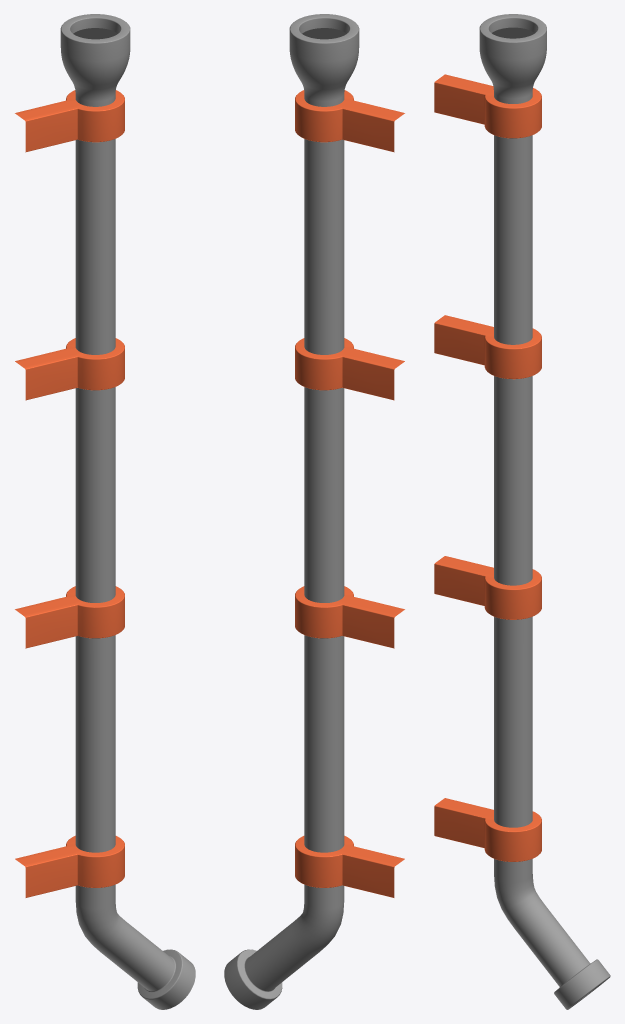
File: City_12_Drain_Pipe_1.glb
The picture shows the model from 3 angles, left to right: view 1: azimuth 30°, elevation 25°; view 2: azimuth 150°, elevation 25°; view 3: azimuth 330°, elevation 25°; orthographic projection. The views are drawn at different scales.
Parts seen in each view (by area): view 1: City_12_Drain_Pipe_1; view 2: City_12_Drain_Pipe_1; view 3: City_12_Drain_Pipe_1.
Part boxes in pixels (x1=…): City_12_Drain_Pipe_1: x1=15, y1=14, x2=195, y2=1009; City_12_Drain_Pipe_1: x1=224, y1=14, x2=404, y2=1009; City_12_Drain_Pipe_1: x1=434, y1=14, x2=610, y2=1009.
Bounding box in the file's own units: 1.25 × 6.93 × 0.4412.
1 material, 1 textured.
